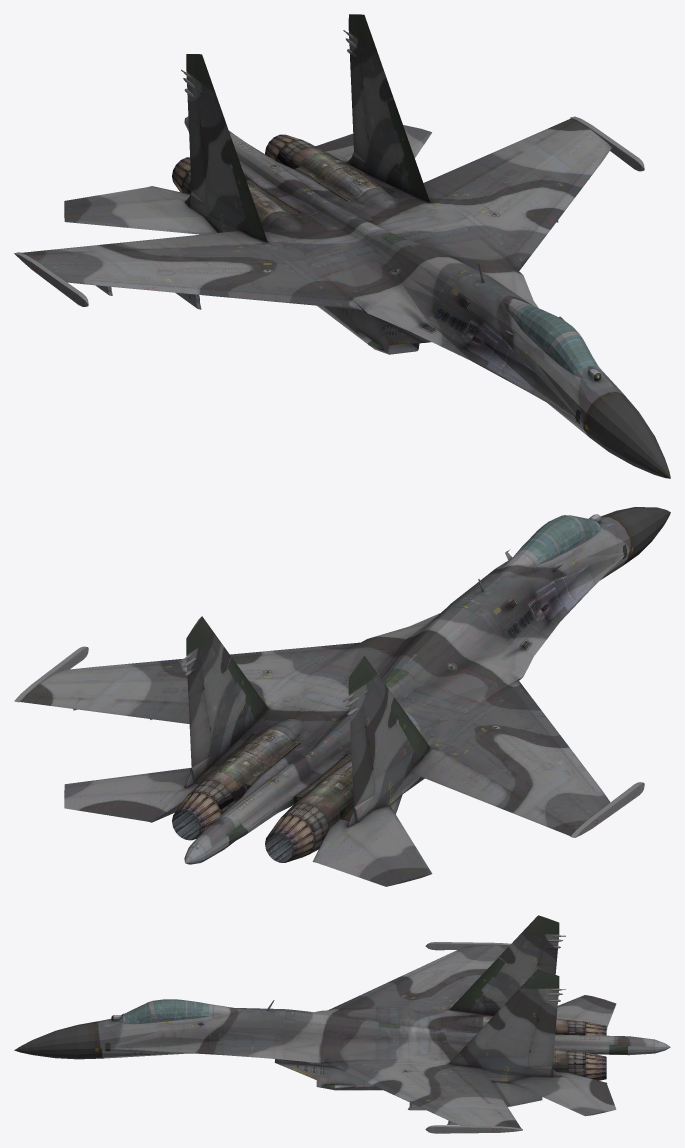
File: Su27Flanker.FBX
3 renders of one model, top to bottom at view 1: azimuth 30°, elevation 25°; view 2: azimuth 150°, elevation 25°; view 3: azimuth 270°, elevation 25°, orthographic. The views are drawn at different scales.
Parts seen in each view (by area): view 1: LOD0, ElevatorR01, VoletR01, VoletL01, FlapL01, FlapR01, Glass_Canopy01, BrakeL01, RudderR01, RudderL01, ElevatorL01, Glass01; view 2: LOD0, ElevatorR01, ElevatorL01, FlapR01, BrakeL01, EngineR01, VoletR01, RudderR01, RudderL01, Glass_Canopy01, EngineL01, FlapL01 (+4 smaller); view 3: LOD0, ElevatorL01, RudderL01, ElevatorR01, VoletL01, FlapL01, Glass_Canopy01, BrakeL01, VoletR01, EngineL01, Glass01, RudderR01 (+1 smaller).
Part boxes in pixels (x1=…): LOD0: x1=14, y1=14, x2=670, y2=478; ElevatorR01: x1=64, y1=186, x2=217, y2=234; VoletR01: x1=87, y1=278, x2=362, y2=309; VoletL01: x1=505, y1=154, x2=601, y2=270; FlapL01: x1=423, y1=145, x2=523, y2=203; FlapR01: x1=103, y1=230, x2=267, y2=251; Glass_Canopy01: x1=515, y1=305, x2=578, y2=351; BrakeL01: x1=389, y1=240, x2=483, y2=280; RudderR01: x1=187, y1=93, x2=206, y2=203; RudderL01: x1=350, y1=54, x2=368, y2=164; ElevatorL01: x1=315, y1=125, x2=431, y2=165; Glass01: x1=551, y1=335, x2=598, y2=373; LOD0: x1=14, y1=507, x2=670, y2=864; ElevatorR01: x1=312, y1=805, x2=432, y2=886; ElevatorL01: x1=64, y1=767, x2=198, y2=822; FlapR01: x1=409, y1=746, x2=523, y2=811; BrakeL01: x1=389, y1=600, x2=483, y2=675; EngineR01: x1=265, y1=814, x2=315, y2=862; VoletR01: x1=505, y1=680, x2=601, y2=794; RudderR01: x1=350, y1=708, x2=374, y2=807; RudderL01: x1=187, y1=668, x2=211, y2=767; Glass_Canopy01: x1=517, y1=515, x2=581, y2=562; EngineL01: x1=172, y1=792, x2=221, y2=840; FlapL01: x1=102, y1=699, x2=268, y2=723; LOD0: x1=14, y1=915, x2=670, y2=1133; ElevatorL01: x1=508, y1=1069, x2=616, y2=1116; RudderL01: x1=528, y1=1002, x2=557, y2=1067; ElevatorR01: x1=556, y1=995, x2=616, y2=1029; VoletL01: x1=325, y1=1061, x2=459, y2=1120; FlapL01: x1=446, y1=1063, x2=506, y2=1106; Glass_Canopy01: x1=153, y1=999, x2=208, y2=1020; BrakeL01: x1=284, y1=1009, x2=378, y2=1029; VoletR01: x1=328, y1=952, x2=459, y2=1010; EngineL01: x1=585, y1=1052, x2=606, y2=1080; Glass01: x1=124, y1=1002, x2=153, y2=1023; RudderR01: x1=536, y1=949, x2=557, y2=974.
Bounding box in the file's own units: 62.64 × 94 × 21.92.
